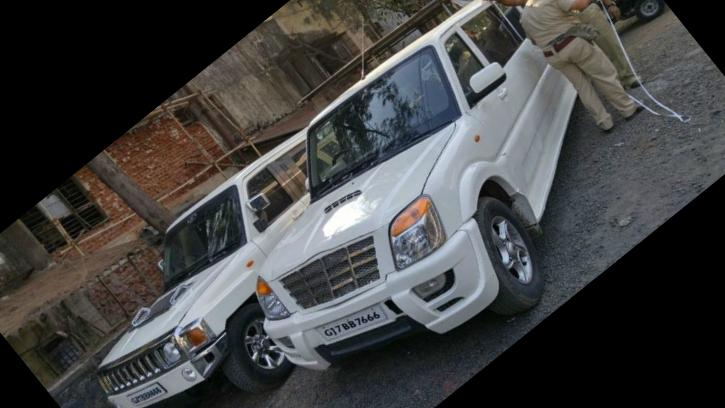plate: (303, 276, 402, 372)
